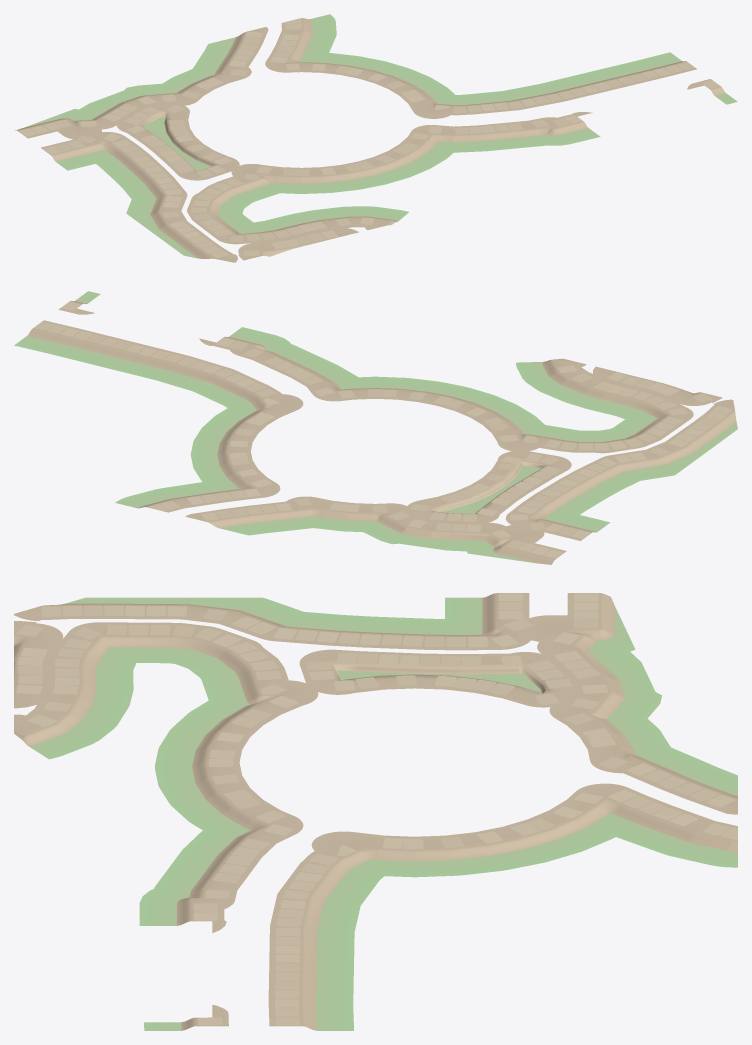
3 renders of one model, top to bottom at view 1: azimuth 30°, elevation 25°; view 2: azimuth 150°, elevation 25°; view 3: azimuth 270°, elevation 25°, orthographic. The views are drawn at different scales.
Visible parts, largest first — view 1: StoneEdgeBase, GrassEdgeTones, RoundedLimestoneSetts; view 2: StoneEdgeBase, GrassEdgeTones, RoundedLimestoneSetts; view 3: StoneEdgeBase, GrassEdgeTones, RoundedLimestoneSetts.
Part boxes in pixels (x1=…): StoneEdgeBase: x1=15, y1=18, x2=725, y2=262; GrassEdgeTones: x1=25, y1=14, x2=737, y2=258; RoundedLimestoneSetts: x1=19, y1=18, x2=719, y2=258; StoneEdgeBase: x1=27, y1=301, x2=736, y2=564; GrassEdgeTones: x1=14, y1=291, x2=737, y2=563; RoundedLimestoneSetts: x1=34, y1=302, x2=732, y2=558; StoneEdgeBase: x1=14, y1=593, x2=737, y2=1030; GrassEdgeTones: x1=28, y1=597, x2=737, y2=1030; RoundedLimestoneSetts: x1=16, y1=593, x2=737, y2=1025.
Size of the model in its own units: 23 by 0.123 by 16.25.
